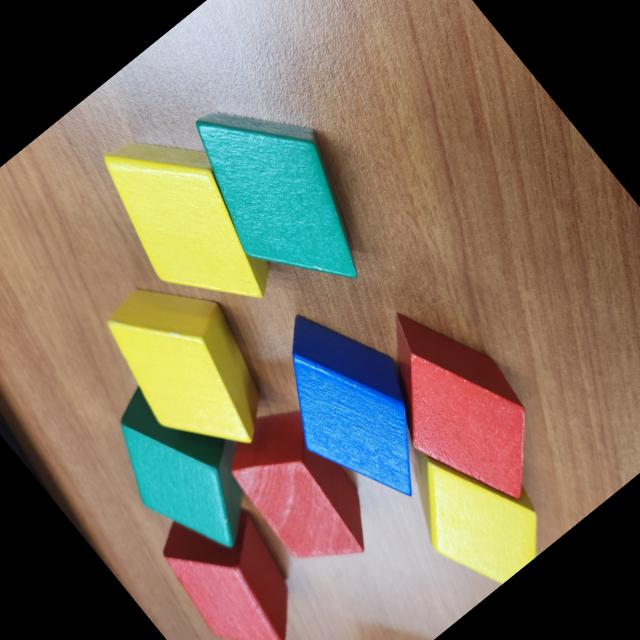blue: (236, 284, 469, 530)
green: (82, 358, 290, 576), (198, 112, 357, 273)
red: (340, 282, 574, 530), (204, 384, 397, 590), (140, 477, 329, 640)
yellow: (78, 104, 302, 342), (86, 256, 300, 480), (373, 404, 564, 604)
